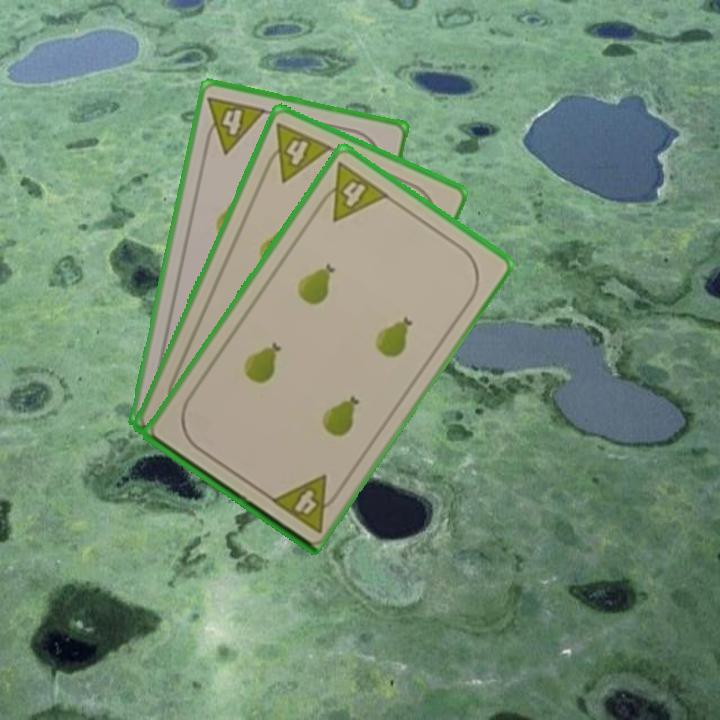4p: (312, 158, 392, 224), (266, 471, 345, 535), (259, 119, 335, 185), (199, 92, 269, 157)
